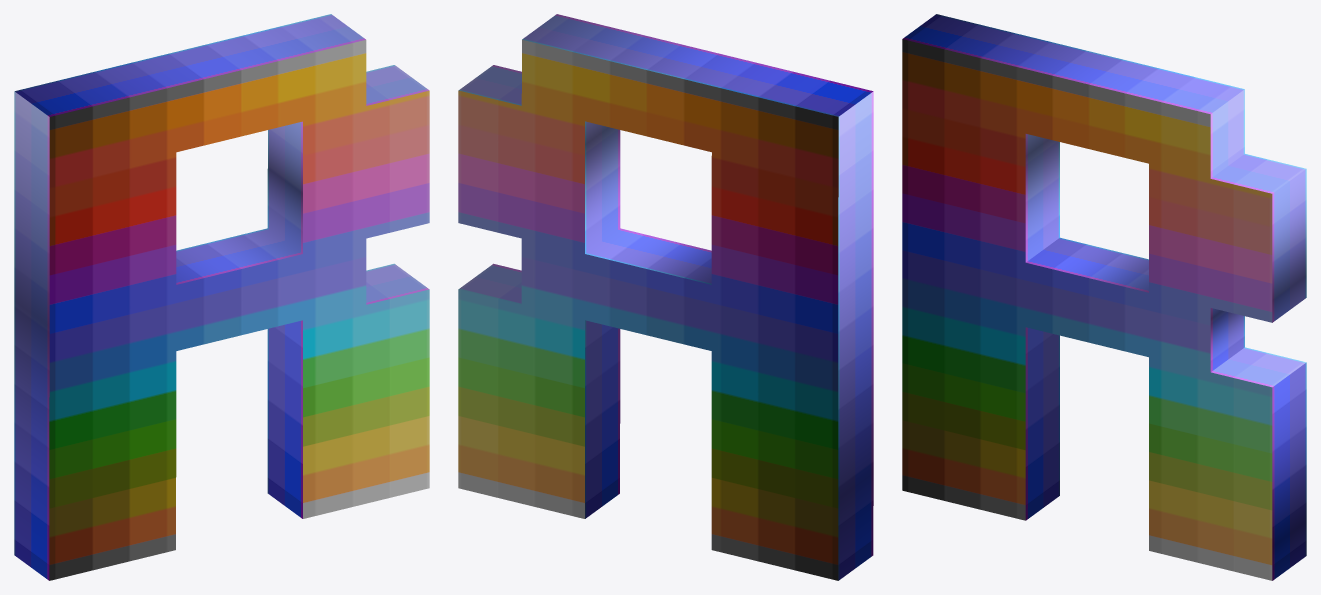
3 renders of one model, left to right at view 1: azimuth 30°, elevation 25°; view 2: azimuth 150°, elevation 25°; view 3: azimuth 330°, elevation 25°, orthographic. The views are drawn at different scales.
Parts seen in each view (by area): view 1: r; view 2: r; view 3: r.
Part boxes in pixels (x1=…): r: x1=14, y1=14, x2=429, y2=580; r: x1=458, y1=14, x2=873, y2=580; r: x1=902, y1=14, x2=1306, y2=580.
Bounding box in the file's own units: 0.5 × 0.5834 × 0.0803.
Materials: 1 (1 with a texture image).
